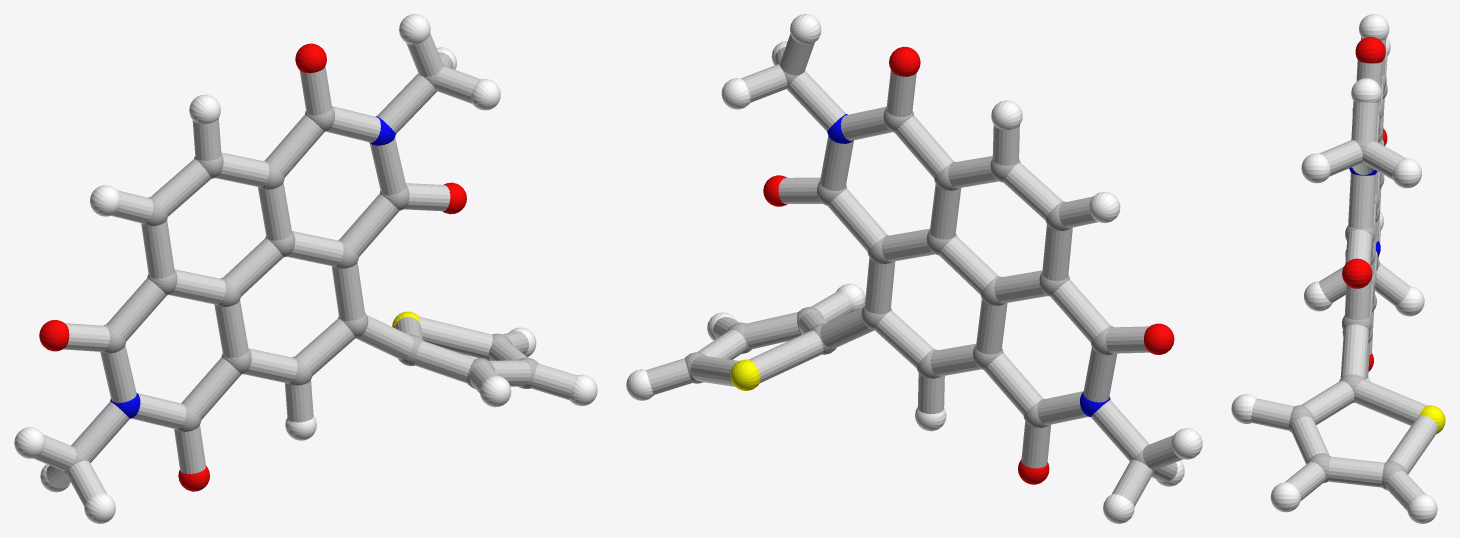
The model's file is Dimethyl_Naphthalene_Dicarboximide_Phi_15_Theta_90_Thiophene.glb.
3 views of the same model, side by side, from view 1: azimuth 30°, elevation 25°; view 2: azimuth 150°, elevation 25°; view 3: azimuth 270°, elevation 25° (orthographic). The views are drawn at different scales.
Visible parts, largest first — view 1: grp14119, grp7241, grp1, grp12309, grp11585; view 2: grp14119, grp7241, grp1, grp12309, grp13757, grp11585; view 3: grp14119, grp7241, grp1, grp12309, grp13757.
Part boxes in pixels (x1=…): grp14119: x1=33, y1=33, x2=576, y2=506; grp7241: x1=14, y1=14, x2=597, y2=523; grp1: x1=61, y1=64, x2=538, y2=474; grp12309: x1=39, y1=43, x2=466, y2=491; grp11585: x1=110, y1=116, x2=395, y2=418; grp14119: x1=646, y1=34, x2=1182, y2=506; grp7241: x1=626, y1=14, x2=1202, y2=523; grp1: x1=685, y1=62, x2=1158, y2=473; grp12309: x1=763, y1=46, x2=1174, y2=484; grp13757: x1=730, y1=359, x2=760, y2=390; grp11585: x1=827, y1=114, x2=1110, y2=417; grp14119: x1=1251, y1=37, x2=1437, y2=510; grp7241: x1=1231, y1=14, x2=1437, y2=523; grp1: x1=1288, y1=73, x2=1406, y2=490; grp12309: x1=1342, y1=37, x2=1387, y2=371; grp13757: x1=1419, y1=405, x2=1445, y2=433.
Size of the model in its own units: 11.94 by 8.72 by 4.23.
